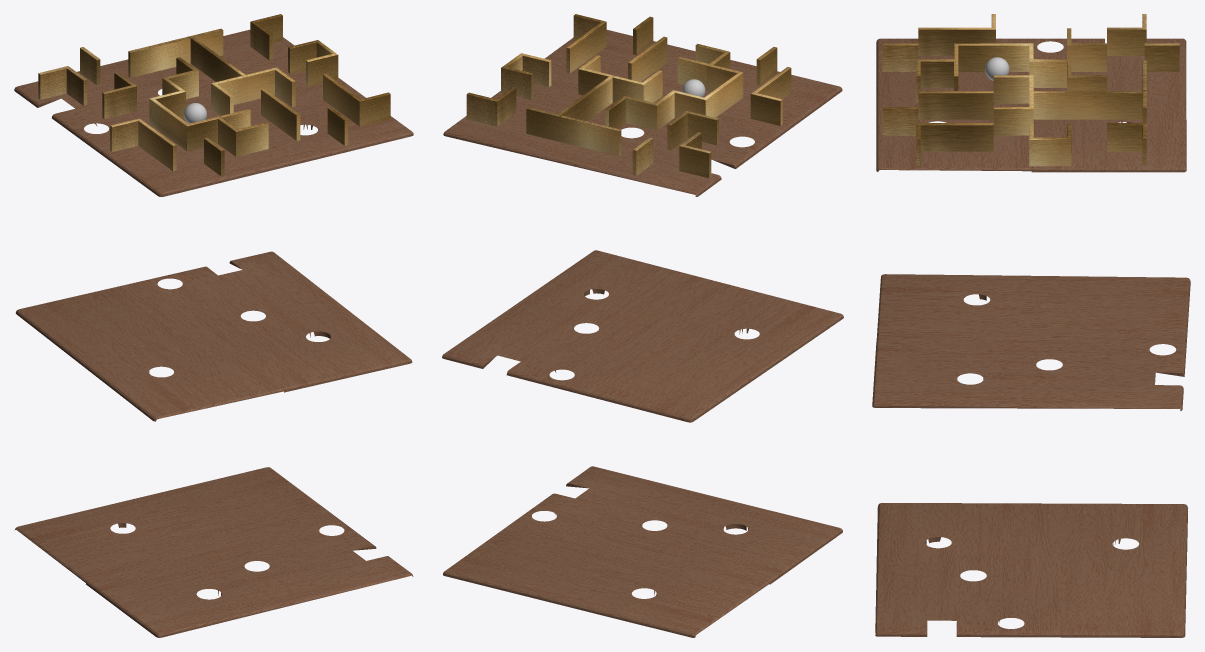
File: Maze.fbx
3 renders of one model, left to right at view 1: azimuth 30°, elevation 25°; view 2: azimuth 150°, elevation 25°; view 3: azimuth 270°, elevation 25°, orthographic. The views are drawn at different scales.
Visible parts, largest first — view 1: Box001.001, Box001.002, Box001, Line001.008, Line001.005, Line001.003, Line001.011, Line001.010, Line001.014, Line001, Line001.006, Line001.002 (+5 smaller); view 2: Box001.001, Box001.002, Box001, Line001.008, Line001.003, Line001.005, Line001.014, Line001.011, Line001.010, Line001.004, Line001.002, Line001 (+6 smaller); view 3: Box001.002, Box001.001, Box001, Line001.008, Line001.005, Line001.011, Line001.007, Line001.010, Line001.014, Line001.004, Line001.006, Line001 (+4 smaller).
Part boxes in pixels (x1,y1,x2,y2): Box001.001: (15,251,412,421); Box001.002: (14,467,413,637); Box001: (14,29,413,196); Line001.008: (149,57,268,156); Line001.005: (190,37,247,115); Line001.003: (128,28,223,77); Line001.011: (323,73,390,126); Line001.010: (110,118,176,170); Line001.014: (288,40,338,86); Line001: (38,66,87,105); Line001.006: (246,67,295,107); Line001.002: (102,72,136,119); Box001.001: (442,250,843,422); Box001.002: (443,466,842,637); Box001: (443,30,842,196); Line001.008: (605,44,743,130); Line001.003: (526,107,621,156); Line001.005: (558,70,662,121); Line001.014: (501,53,551,99); Line001.011: (566,14,606,73); Line001.010: (750,67,791,125); Line001.004: (466,87,516,126); Line001.002: (667,110,718,150); Line001: (679,132,711,178); Box001.002: (875,503,1187,637); Box001.001: (872,274,1190,410); Box001: (876,38,1186,172); Line001.008: (916,43,1106,102); Line001.005: (993,75,1142,119); Line001.011: (916,123,993,165); Line001.007: (918,91,993,119); Line001.010: (918,14,995,55); Line001.014: (1029,124,1071,166); Line001.004: (1107,123,1146,165); Line001.006: (993,93,1033,135); Line001: (1107,14,1146,55).
Bounding box in the file's own units: 14.35 × 24.75 × 14.37.
